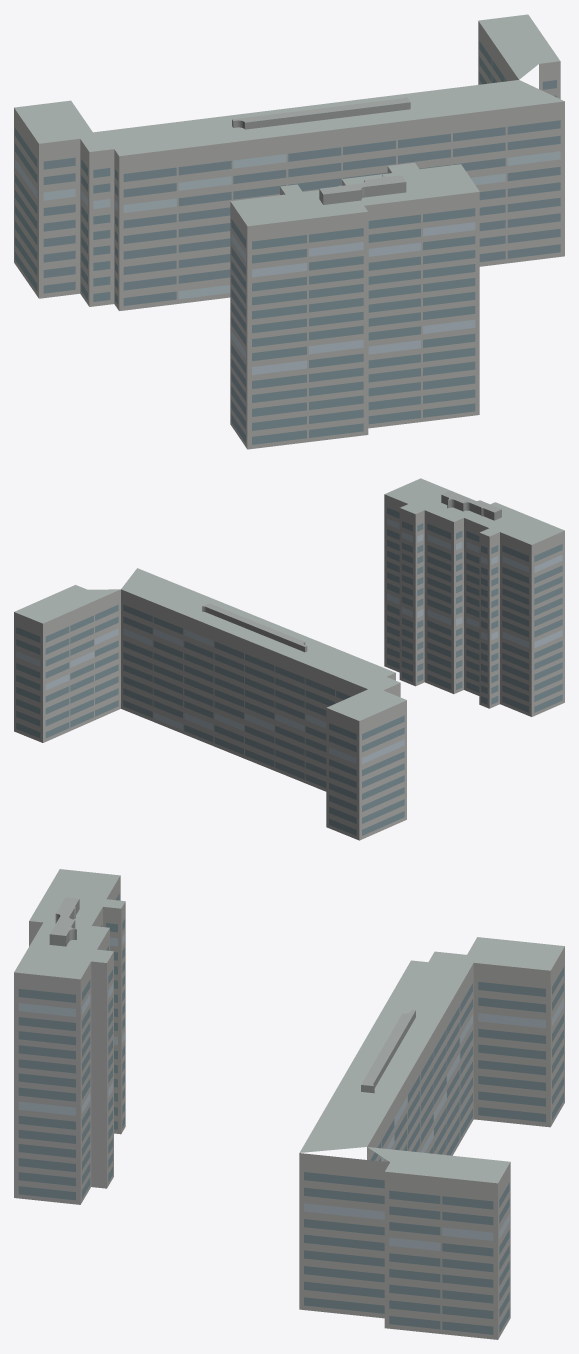
The model's file is apt-a13087401.glb.
3 renders of one model, top to bottom at view 1: azimuth 30°, elevation 25°; view 2: azimuth 150°, elevation 25°; view 3: azimuth 270°, elevation 25°, orthographic. The views are drawn at different scales.
Visible parts, largest first — view 1: apt-a13087401; view 2: apt-a13087401; view 3: apt-a13087401.
Boxes of the visible parts, left/top/right/bottom form: apt-a13087401: left=14, top=14, right=564, bottom=449; apt-a13087401: left=14, top=478, right=564, bottom=840; apt-a13087401: left=14, top=869, right=564, bottom=1339.
Bounding box in the file's own units: 103 × 46 × 97.26.
